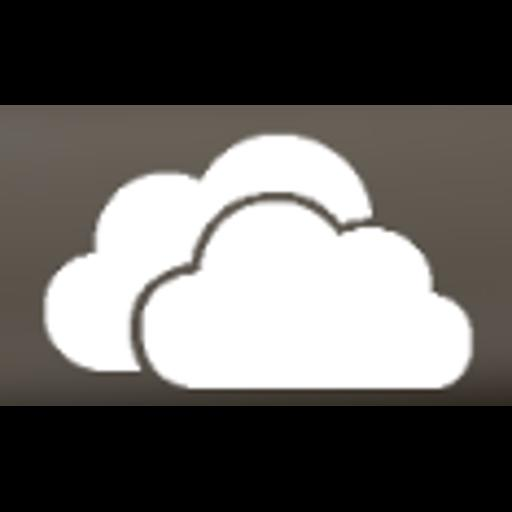Outlook: (0, 105, 512, 406)
